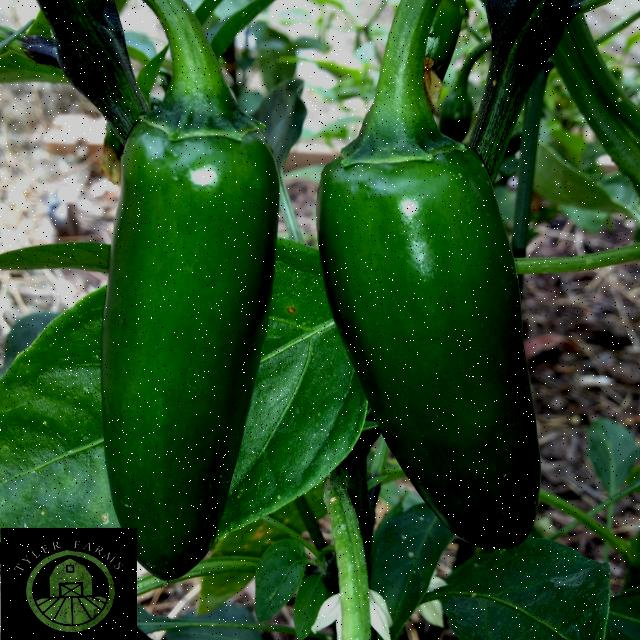Chili Pepper: (29, 53, 287, 621), (305, 84, 570, 558)
